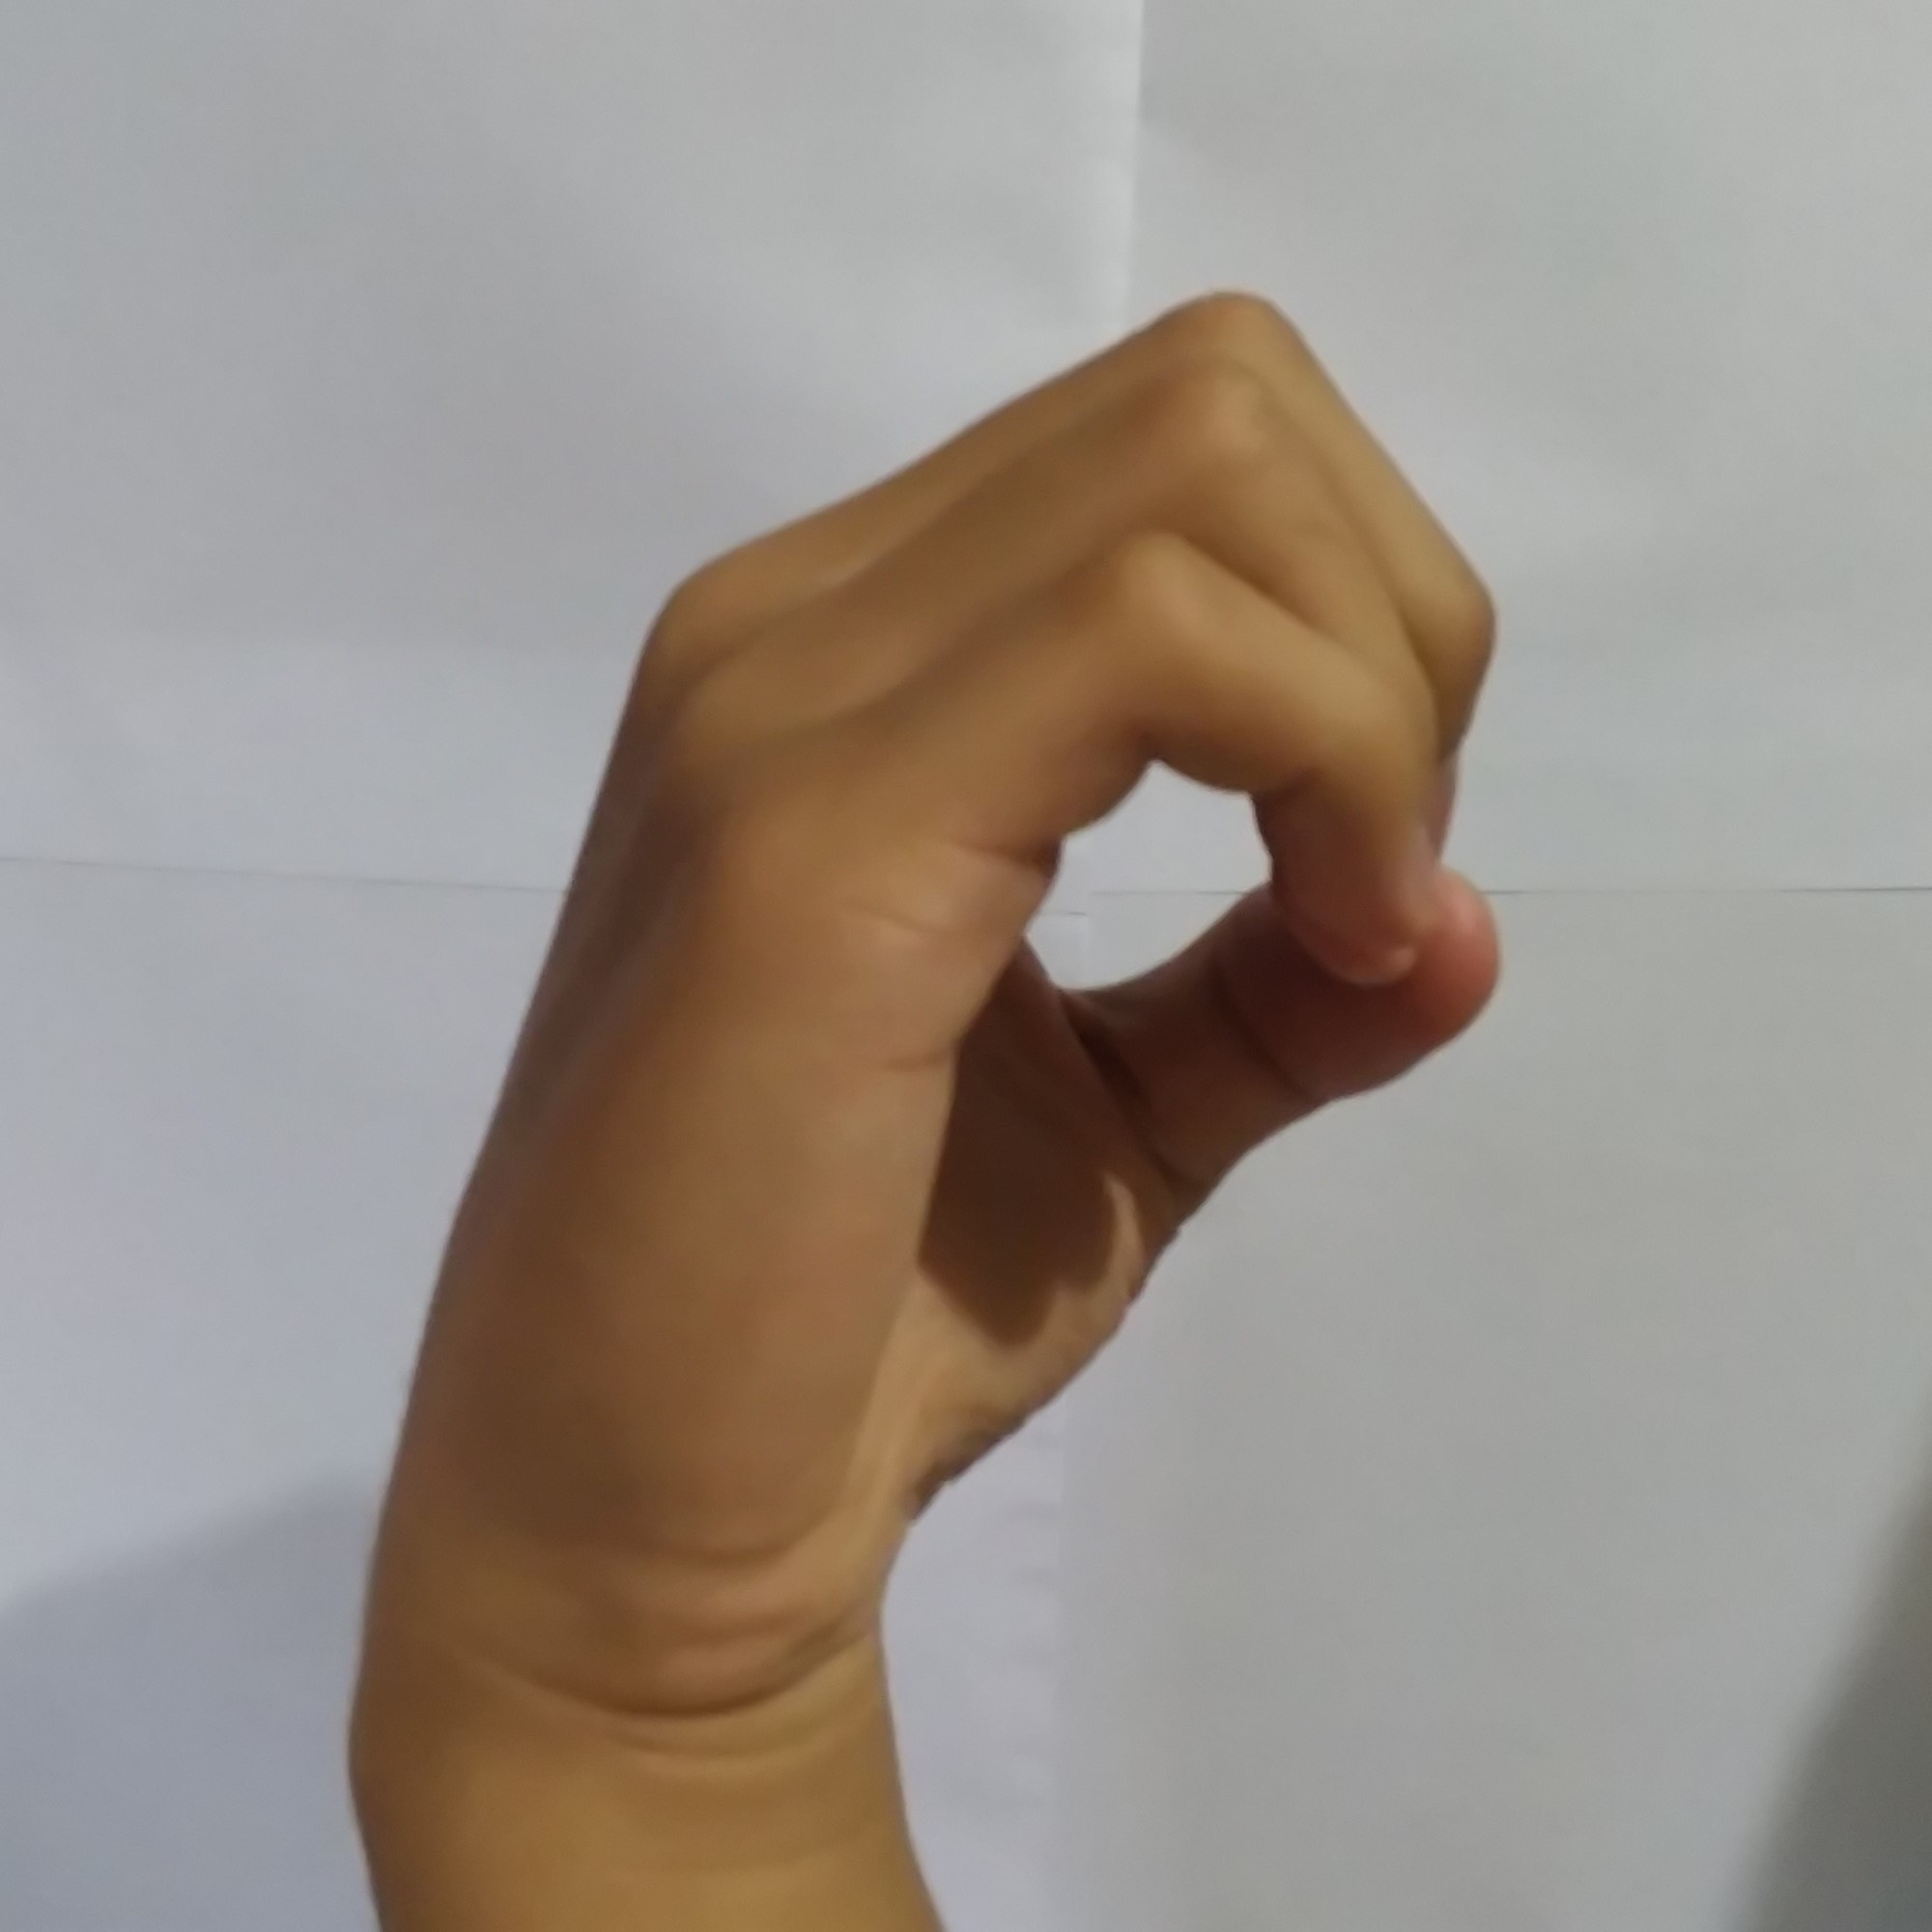O: (356, 269, 1541, 1677)
